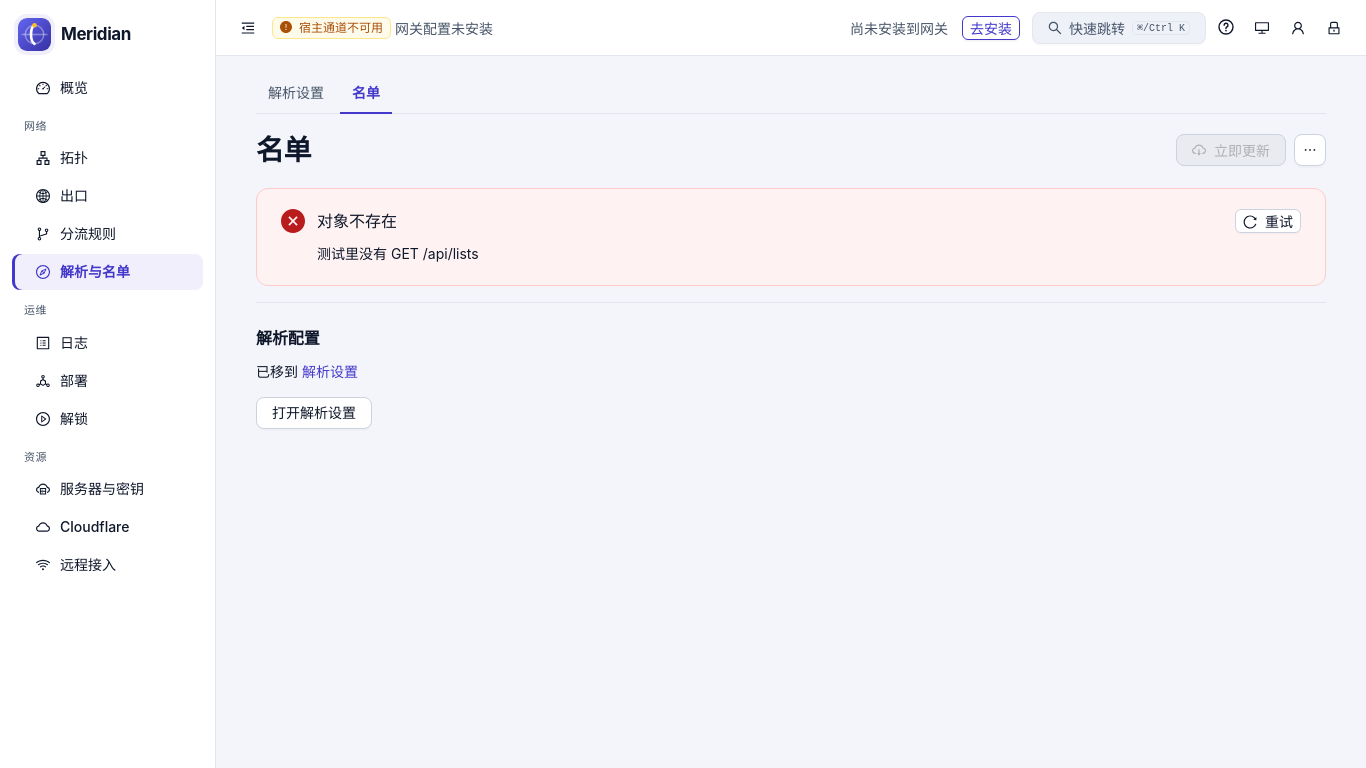
lazy routes › opens a lazy page in the shell and navigates to another one from the menu
Expected: the heading "名单" is shown, [256, 133, 311, 167]
Click the link "解锁" at (74, 418), box [60, 410, 88, 427]
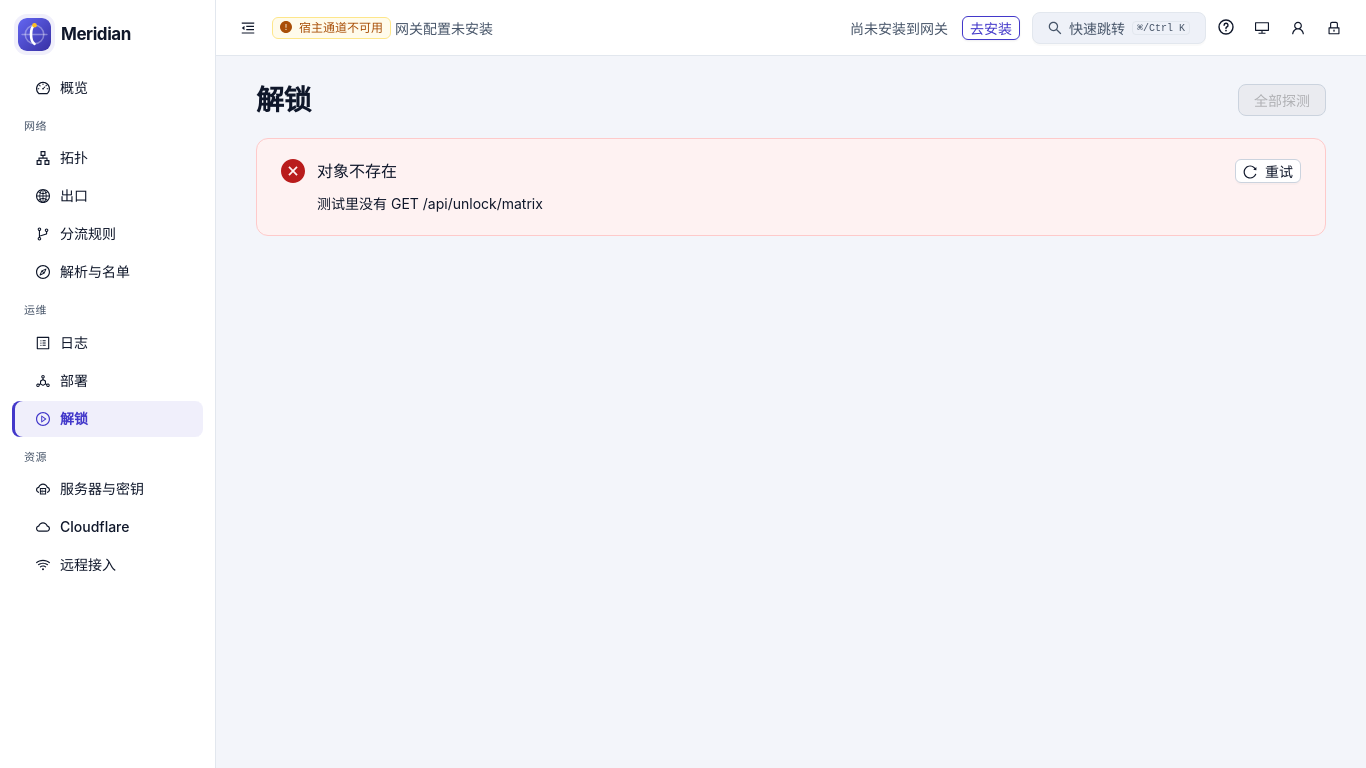
Expected: the heading "解锁" is shown, [256, 83, 311, 117]
